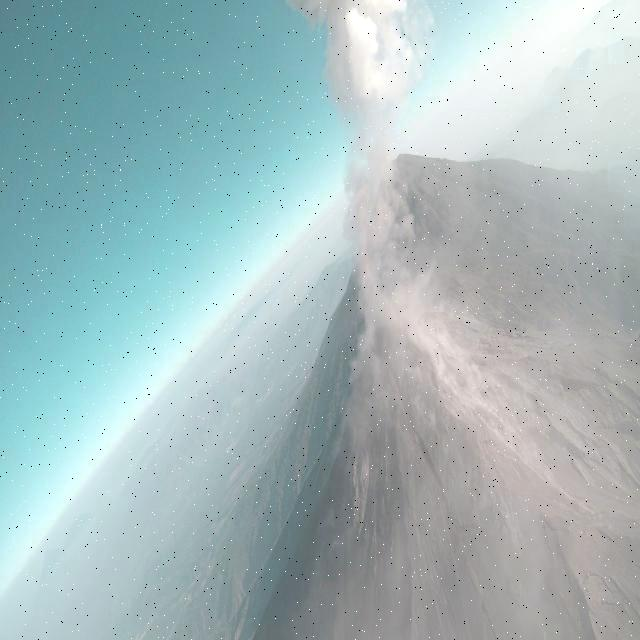Plume: (336, 130, 428, 370), (284, 0, 444, 120)
